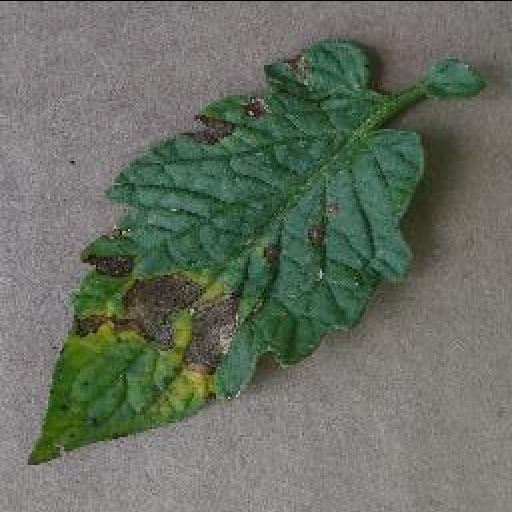Early Blight: (25, 30, 431, 464)
